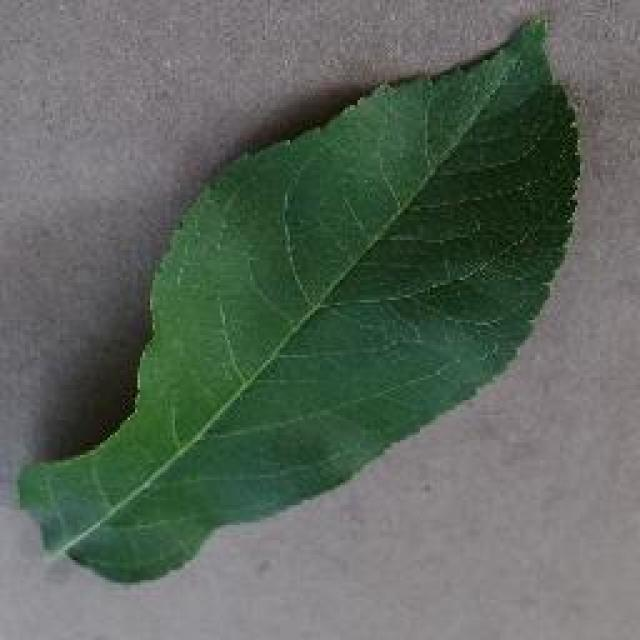apple healthy: (15, 10, 585, 585)
